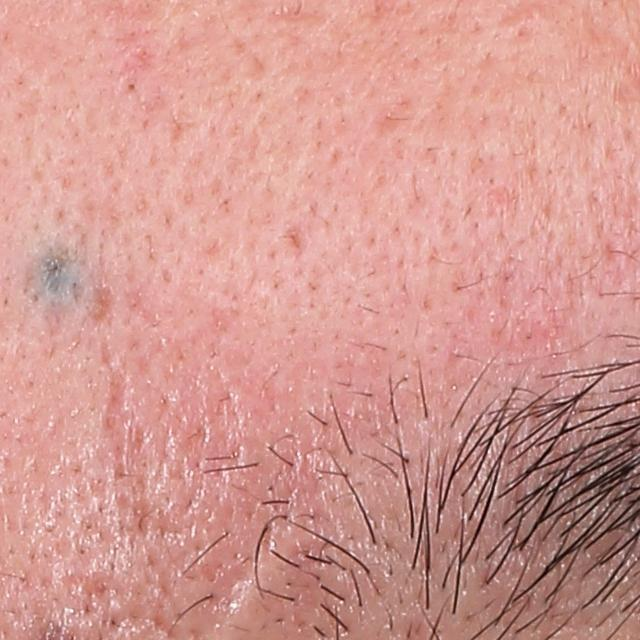atrophic_scar: (96, 334, 187, 542), (91, 282, 113, 327)
other: (26, 223, 87, 313)
